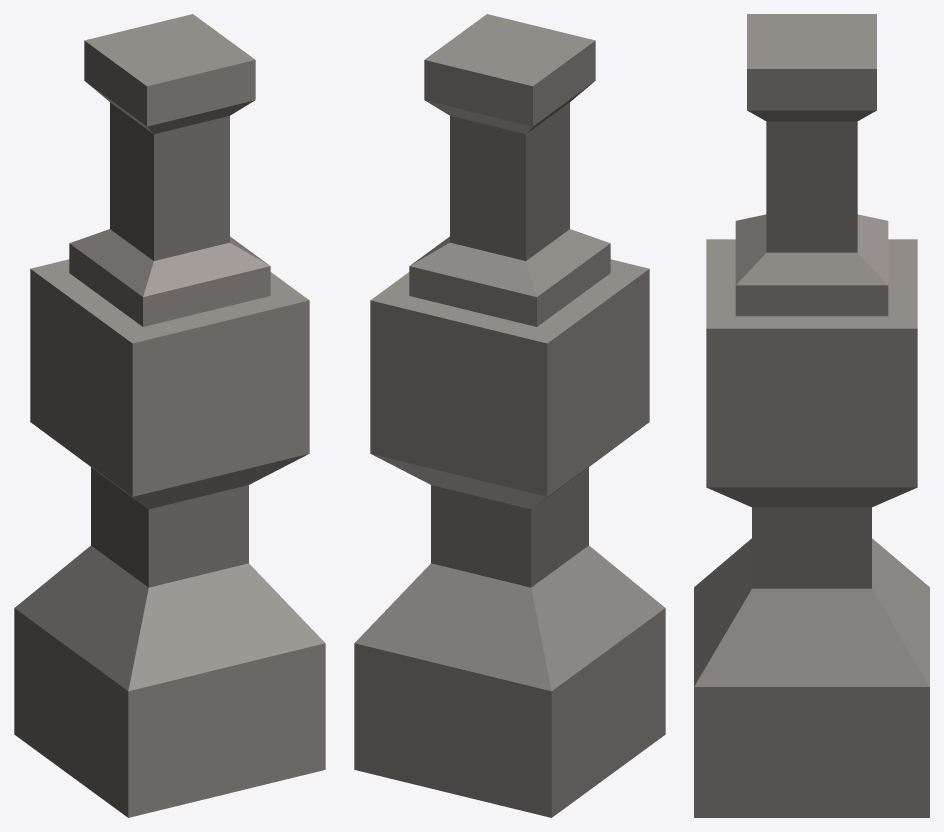
The model's file is SD_Env_Railing_Stone_Pillar_01.fbx.
The picture shows the model from 3 angles, left to right: view 1: azimuth 30°, elevation 25°; view 2: azimuth 150°, elevation 25°; view 3: azimuth 270°, elevation 25°; orthographic projection. The views are drawn at different scales.
Visible parts, largest first — view 1: SD_Env_Railing_Stone_Pillar_01; view 2: SD_Env_Railing_Stone_Pillar_01; view 3: SD_Env_Railing_Stone_Pillar_01.
Part boxes in pixels (bbox=[...]): SD_Env_Railing_Stone_Pillar_01: bbox=[14, 14, 325, 817]; SD_Env_Railing_Stone_Pillar_01: bbox=[354, 14, 665, 817]; SD_Env_Railing_Stone_Pillar_01: bbox=[694, 14, 929, 817].
Size of the model in its own units: 1.24 by 4.2 by 1.24.
